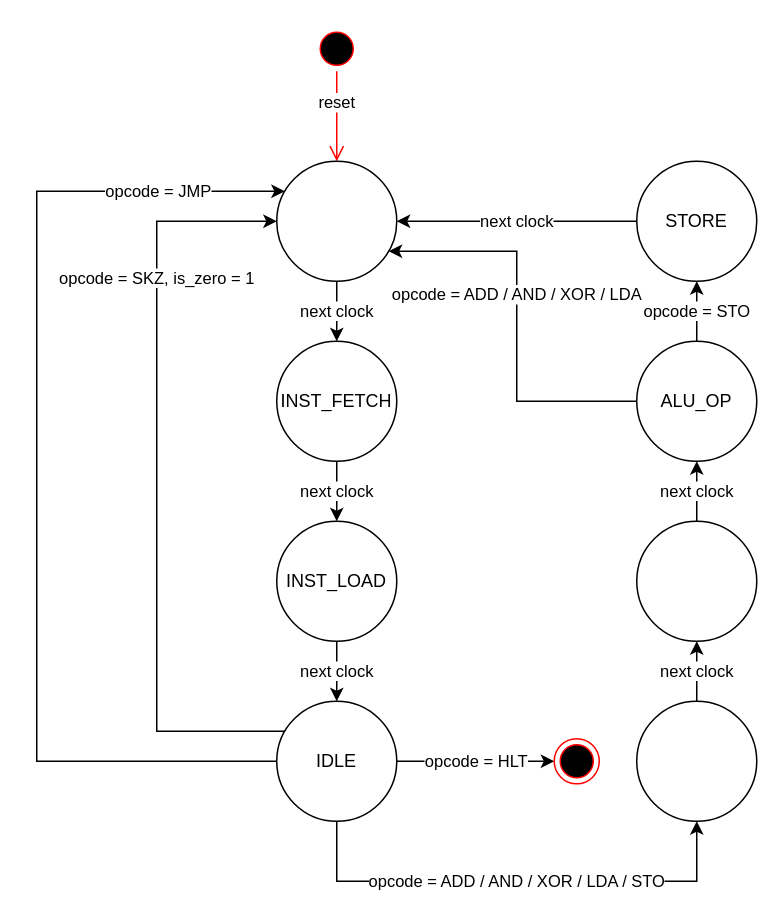
Some shapes in this 783 by 920 pixel diagram are drawn without their labels. Each missing label, with the centre of its shape:
"INST_ADDR" belongs at point 336,220.
"OP_ADDR" belongs at point 696,760.
"OP_FETCH" belongs at point 696,580.
